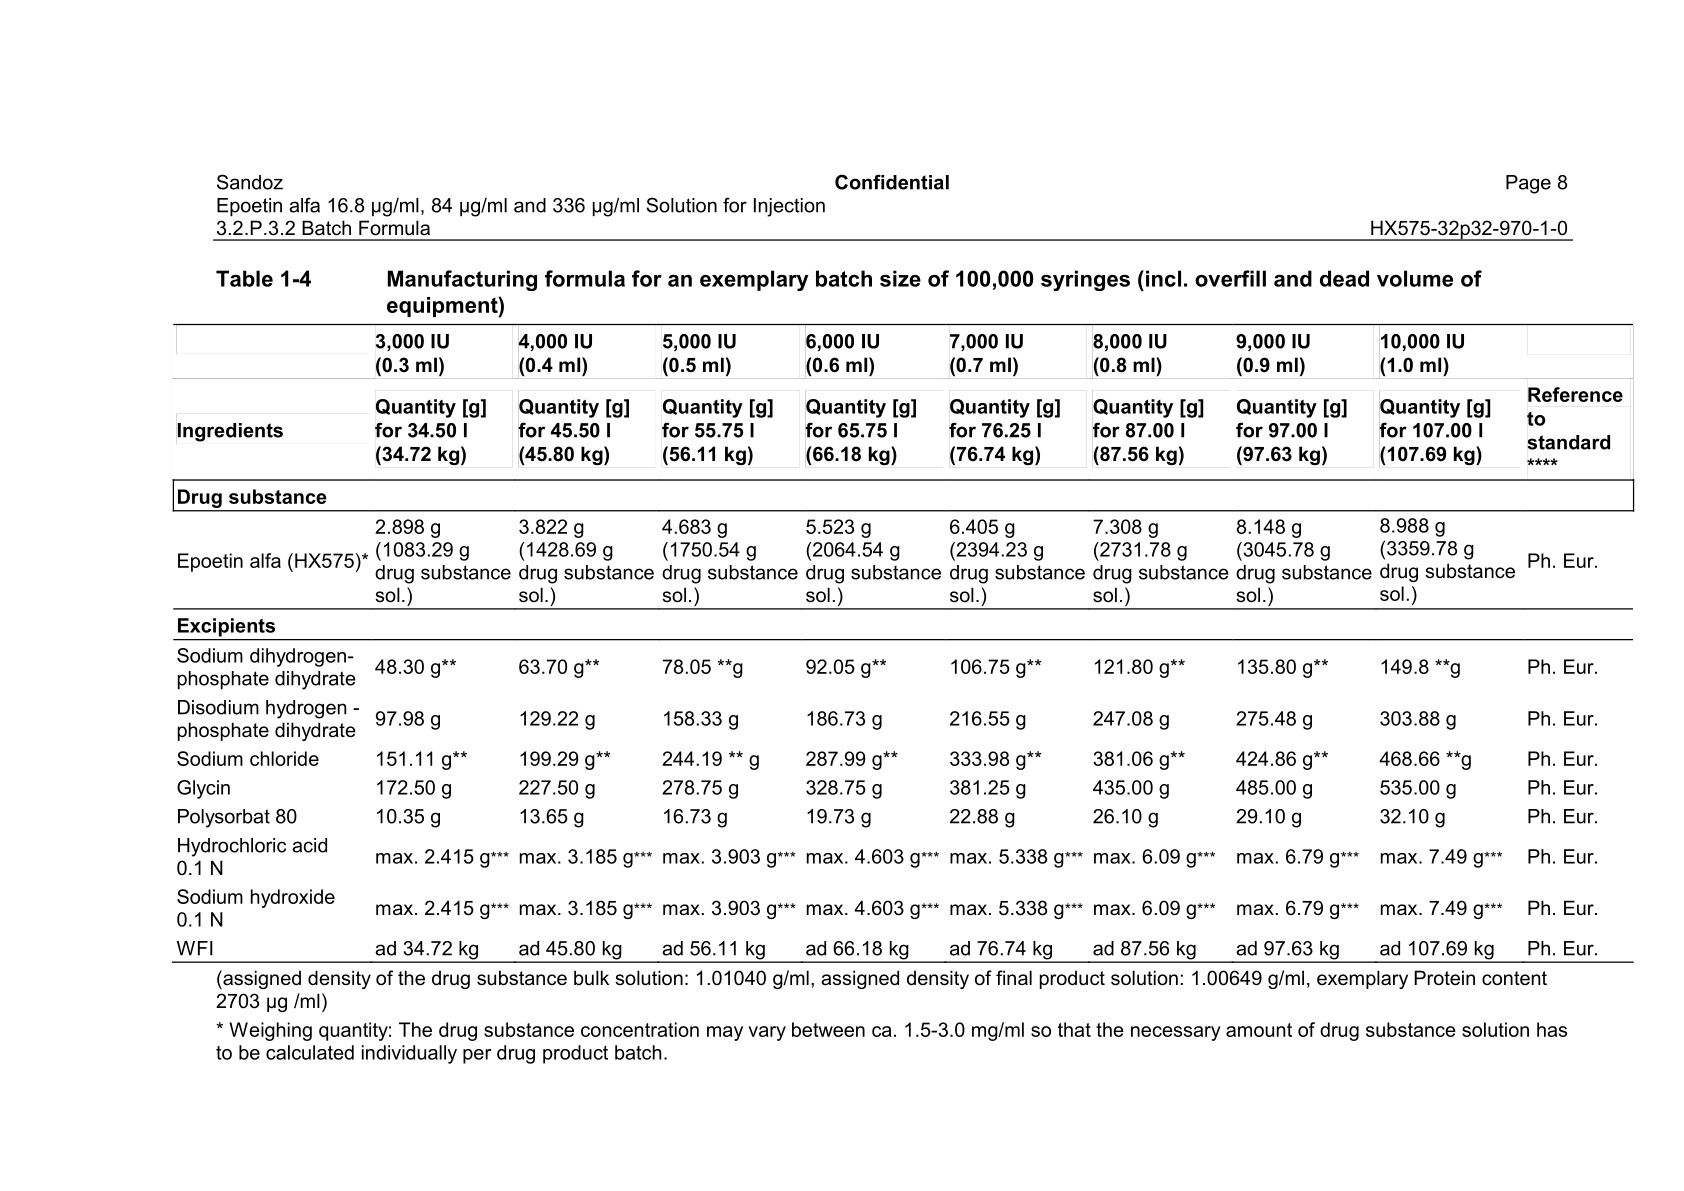partial_lined: (173, 321, 1641, 964)
